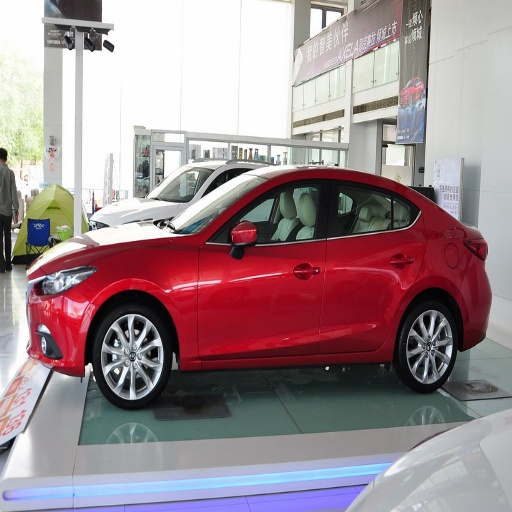_background_: (463, 295, 493, 339)
back_glass: (320, 177, 426, 350)
back_right_light: (30, 291, 74, 357)
front_bumper: (142, 170, 233, 229)
front_glass: (200, 178, 326, 357)
front_left_door: (43, 267, 90, 295)
trunk: (89, 301, 171, 407), (398, 299, 459, 391)
